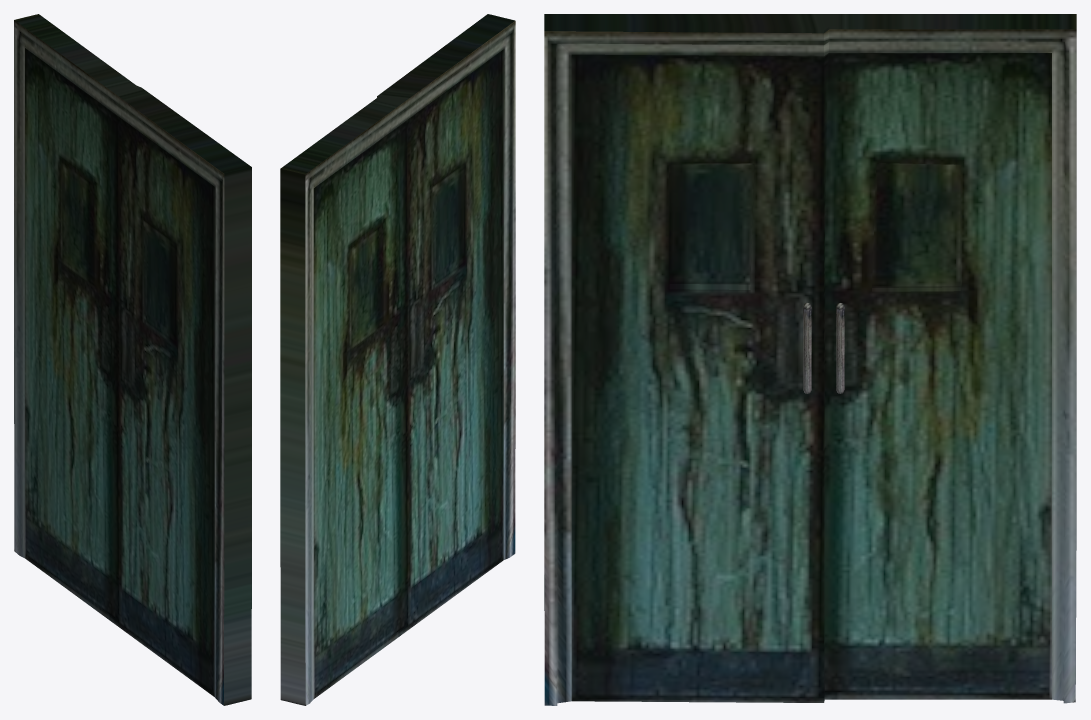
File: PUERTA2_VERDE.fbx
3 views of the same model, side by side, from view 1: azimuth 30°, elevation 25°; view 2: azimuth 150°, elevation 25°; view 3: azimuth 270°, elevation 25° (orthographic). The views are drawn at different scales.
Visible parts, largest first — view 1: Cube; view 2: Cube; view 3: Cube.
Part boxes in pixels (<box>): Cube: <box>14,14,251,705</box>; Cube: <box>280,14,515,705</box>; Cube: <box>544,14,1076,705</box>.
Bounding box in the file's own units: 28.57 × 451 × 323.
